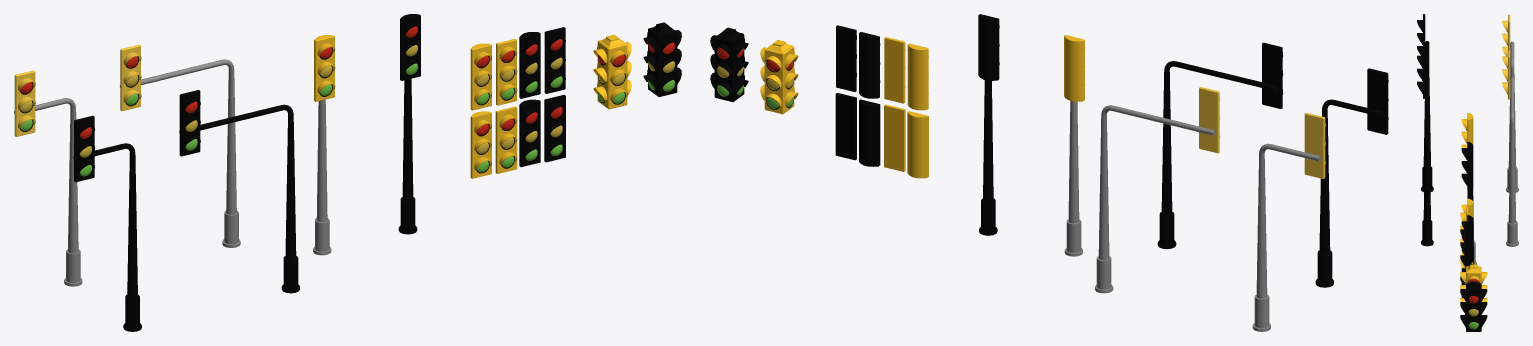
File: street_trafic_lights.fbx
3 views of the same model, side by side, from view 1: azimuth 30°, elevation 25°; view 2: azimuth 150°, elevation 25°; view 3: azimuth 270°, elevation 25° (orthographic). The views are drawn at different scales.
Parts seen in each view (by area): view 1: FarolaModernaRodonaDe1.011, FarolaModernaRodonaDe1.013, FarolaModernaRodonaDe1.010, FarolaModernaRodonaDe1.012, FarolaModernaRodonaDe1.015, FarolaModernaRodonaDe1.014, FarolaModernaRodonaDe1.024, FarolaModernaRodonaDe1.025, FarolaModernaRodonaDe1.019, FarolaModernaRodonaDe1.016, FarolaModernaRodonaDe1.017, FarolaModernaRodonaDe1.020 (+4 smaller); view 2: FarolaModernaRodonaDe1.013, FarolaModernaRodonaDe1.011, FarolaModernaRodonaDe1.012, FarolaModernaRodonaDe1.010, FarolaModernaRodonaDe1.015, FarolaModernaRodonaDe1.014, FarolaModernaRodonaDe1.025, FarolaModernaRodonaDe1.024, FarolaModernaRodonaDe1.016, FarolaModernaRodonaDe1.017, FarolaModernaRodonaDe1.020, FarolaModernaRodonaDe1.019 (+4 smaller); view 3: FarolaModernaRodonaDe1.011, FarolaModernaRodonaDe1.013, FarolaModernaRodonaDe1.025, FarolaModernaRodonaDe1.012, FarolaModernaRodonaDe1.010, FarolaModernaRodonaDe1.015, FarolaModernaRodonaDe1.024, FarolaModernaRodonaDe1.014, FarolaModernaRodonaDe1.021, FarolaModernaRodonaDe1.022, FarolaModernaRodonaDe1.020, FarolaModernaRodonaDe1.023.
Boxes of the visible parts, bbox=[...] form: FarolaModernaRodonaDe1.011: bbox=[179, 90, 299, 293]; FarolaModernaRodonaDe1.013: bbox=[119, 44, 240, 247]; FarolaModernaRodonaDe1.010: bbox=[73, 115, 141, 331]; FarolaModernaRodonaDe1.012: bbox=[14, 70, 82, 286]; FarolaModernaRodonaDe1.015: bbox=[398, 14, 420, 234]; FarolaModernaRodonaDe1.014: bbox=[313, 35, 335, 255]; FarolaModernaRodonaDe1.024: bbox=[593, 34, 631, 109]; FarolaModernaRodonaDe1.025: bbox=[643, 22, 681, 96]; FarolaModernaRodonaDe1.019: bbox=[495, 106, 517, 173]; FarolaModernaRodonaDe1.016: bbox=[470, 111, 491, 178]; FarolaModernaRodonaDe1.017: bbox=[519, 99, 540, 167]; FarolaModernaRodonaDe1.020: bbox=[470, 43, 491, 110]; FarolaModernaRodonaDe1.013: bbox=[1095, 87, 1220, 293]; FarolaModernaRodonaDe1.011: bbox=[1157, 42, 1283, 248]; FarolaModernaRodonaDe1.012: bbox=[1252, 112, 1325, 331]; FarolaModernaRodonaDe1.010: bbox=[1315, 68, 1388, 287]; FarolaModernaRodonaDe1.015: bbox=[978, 14, 999, 235]; FarolaModernaRodonaDe1.014: bbox=[1064, 35, 1085, 256]; FarolaModernaRodonaDe1.025: bbox=[710, 27, 748, 101]; FarolaModernaRodonaDe1.024: bbox=[760, 40, 798, 114]; FarolaModernaRodonaDe1.016: bbox=[907, 111, 928, 178]; FarolaModernaRodonaDe1.017: bbox=[859, 99, 880, 166]; FarolaModernaRodonaDe1.020: bbox=[907, 43, 928, 110]; FarolaModernaRodonaDe1.019: bbox=[884, 104, 905, 171]; FarolaModernaRodonaDe1.011: bbox=[1417, 50, 1433, 246]; FarolaModernaRodonaDe1.013: bbox=[1502, 50, 1518, 246]; FarolaModernaRodonaDe1.025: bbox=[1460, 281, 1487, 331]; FarolaModernaRodonaDe1.012: bbox=[1502, 14, 1518, 192]; FarolaModernaRodonaDe1.010: bbox=[1417, 14, 1433, 191]; FarolaModernaRodonaDe1.015: bbox=[1461, 142, 1473, 264]; FarolaModernaRodonaDe1.024: bbox=[1460, 264, 1487, 301]; FarolaModernaRodonaDe1.014: bbox=[1461, 113, 1476, 264]; FarolaModernaRodonaDe1.021: bbox=[1461, 215, 1473, 264]; FarolaModernaRodonaDe1.022: bbox=[1460, 223, 1468, 267]; FarolaModernaRodonaDe1.020: bbox=[1461, 198, 1473, 221]; FarolaModernaRodonaDe1.023: bbox=[1460, 206, 1468, 242].
Bounding box in the file's own units: 2.06 × 3.48 × 10.43.
